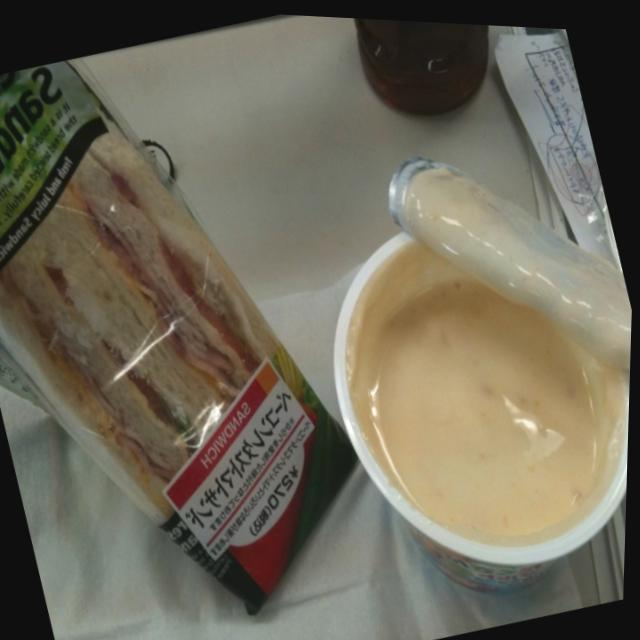三明治: (0, 5, 406, 640)
